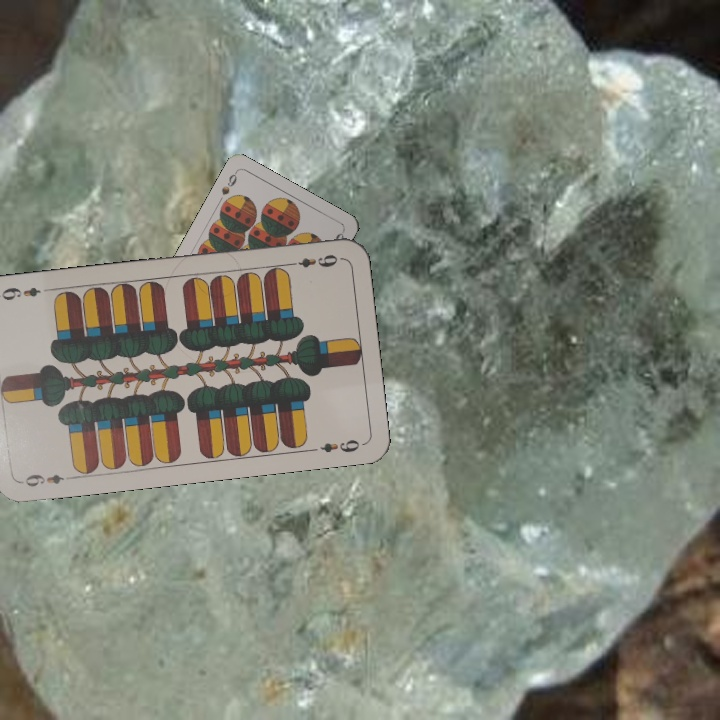E9: (284, 250, 343, 270), (21, 470, 67, 490)
S9: (217, 167, 240, 198)
